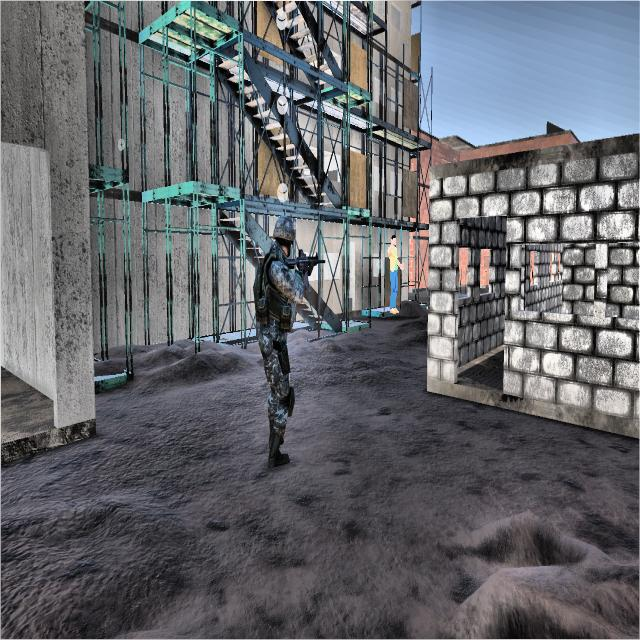bad: (246, 206, 328, 480)
good: (385, 226, 408, 321)
